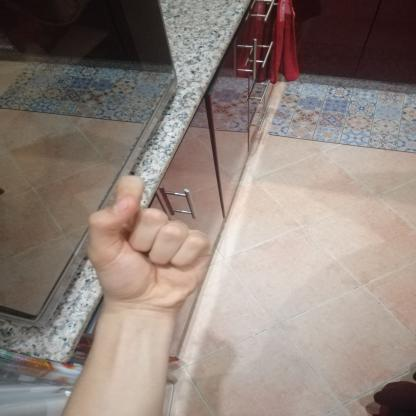FAA: (67, 165, 222, 318)
